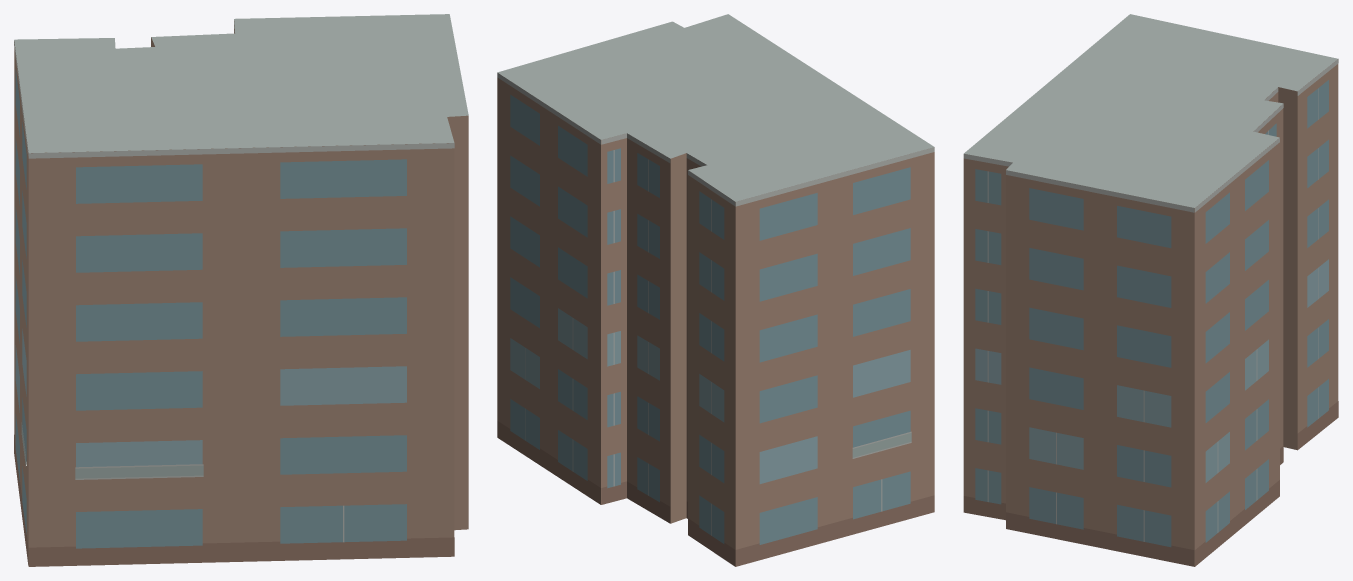
Rendered from survey-upis-32893719.glb.
3 renders of one model, left to right at view 1: azimuth 30°, elevation 25°; view 2: azimuth 150°, elevation 25°; view 3: azimuth 270°, elevation 25°, orthographic. The views are drawn at different scales.
Parts seen in each view (by area): view 1: survey-upis-32893719.tmp; view 2: survey-upis-32893719.tmp; view 3: survey-upis-32893719.tmp.
Boxes of the visible parts, x1,y1,x2,y2 form: survey-upis-32893719.tmp: [14, 14, 468, 566]; survey-upis-32893719.tmp: [497, 14, 934, 566]; survey-upis-32893719.tmp: [963, 14, 1338, 566].
Bounding box in the file's own units: 21.35 × 18.4 × 17.43.
